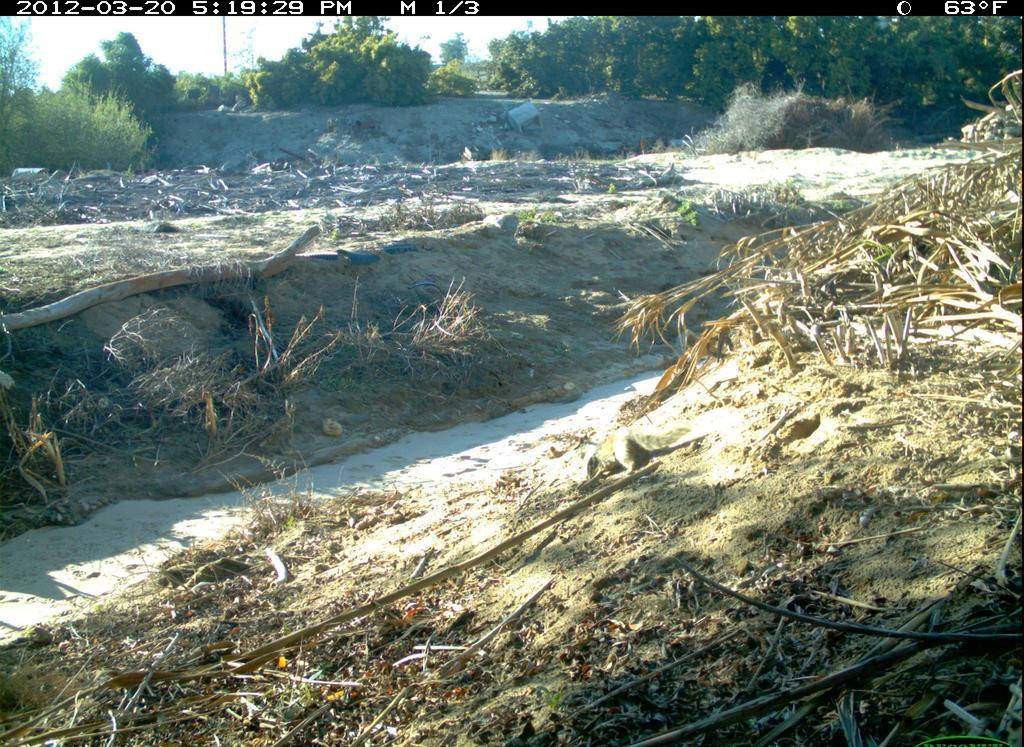squirrel: (574, 413, 724, 496)
